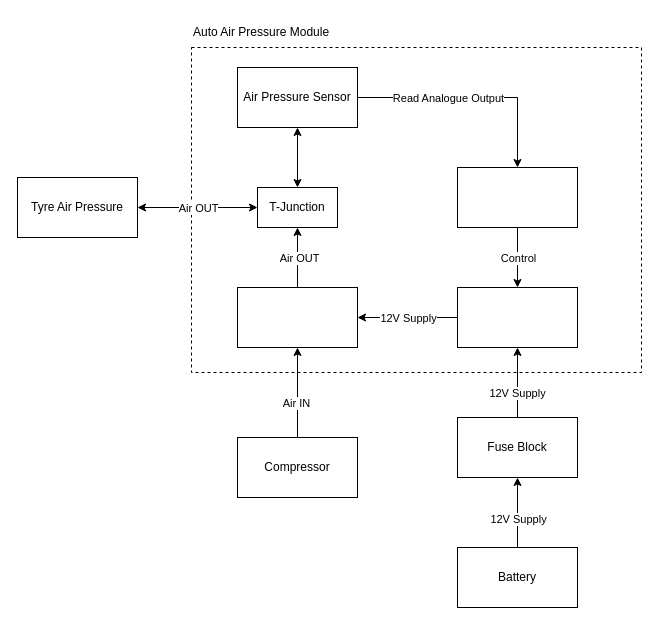
Some shapes in this 659 by 625 pixel diagram are drawn without their labels. Each missing label, with the box of its shape:
Controllable Relay: (456, 286, 578, 348)
Controllable Valve No Voltage = Closed: (236, 286, 358, 348)
Microcomputer: (456, 166, 578, 228)
